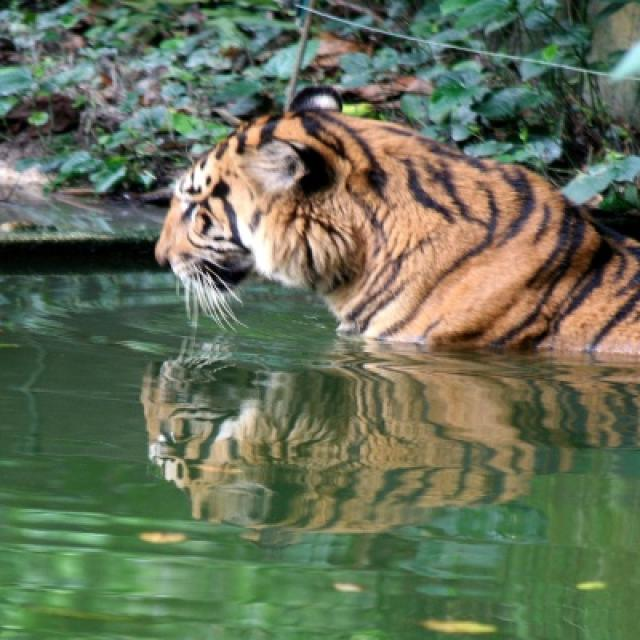Tiger: (156, 91, 633, 355)
